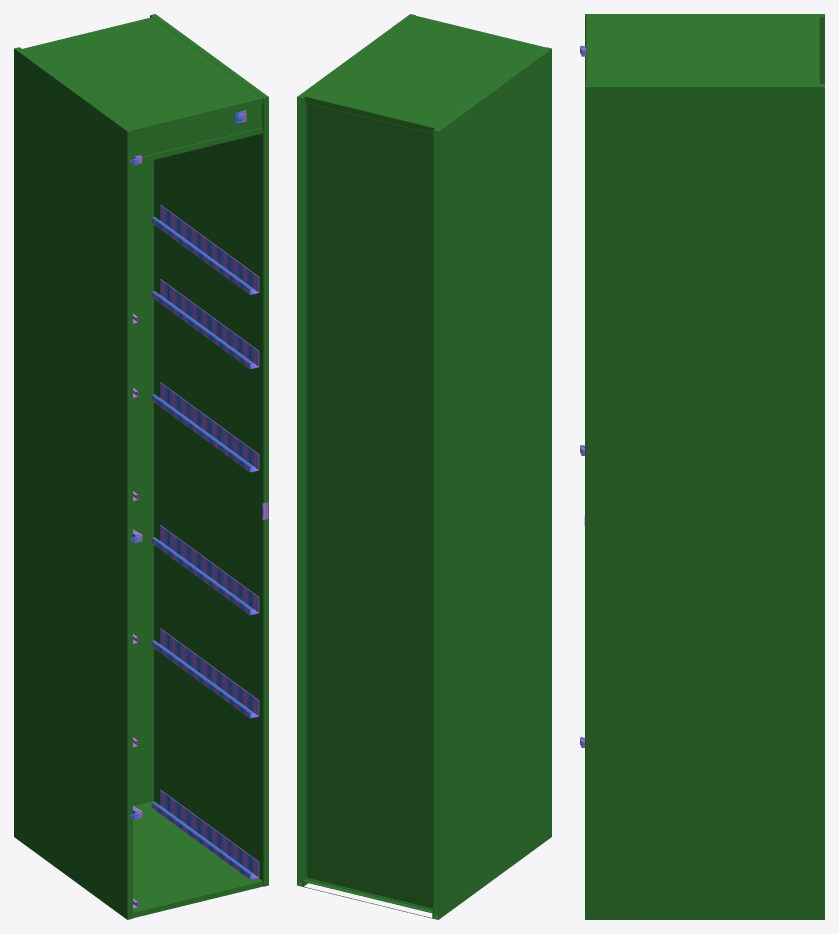
File: SM_Kitchen_02_Base.fbx
3 views of the same model, side by side, from view 1: azimuth 30°, elevation 25°; view 2: azimuth 150°, elevation 25°; view 3: azimuth 270°, elevation 25° (orthographic). The views are drawn at different scales.
Visible parts, largest first — view 1: SM_Kitchen_02_Base; view 2: SM_Kitchen_02_Base; view 3: SM_Kitchen_02_Base.
Part boxes in pixels (x1,y1,x2,y2): SM_Kitchen_02_Base: [14, 14, 268, 919]; SM_Kitchen_02_Base: [297, 14, 551, 919]; SM_Kitchen_02_Base: [580, 14, 824, 919].
Bounding box in the file's own units: 40 × 213 × 56.67.
Materials: 3 (2 with a texture image).
